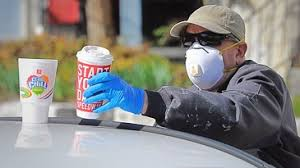mask: (177, 26, 240, 89)
